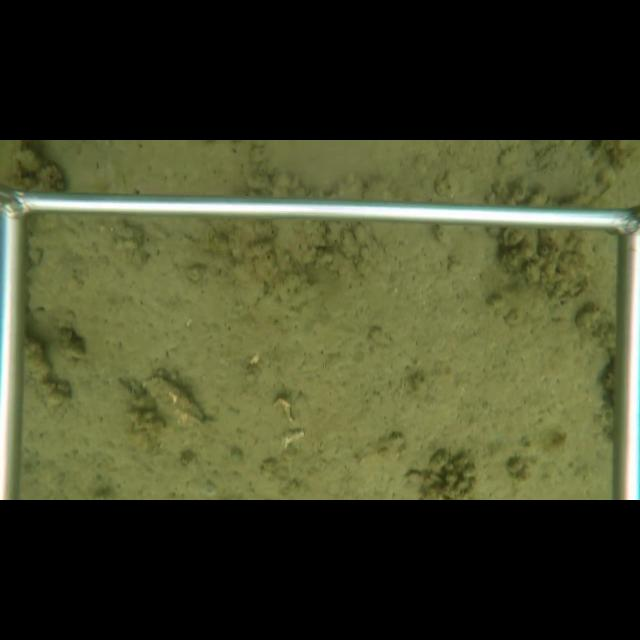Oyster-Closed: (142, 376, 205, 428)
